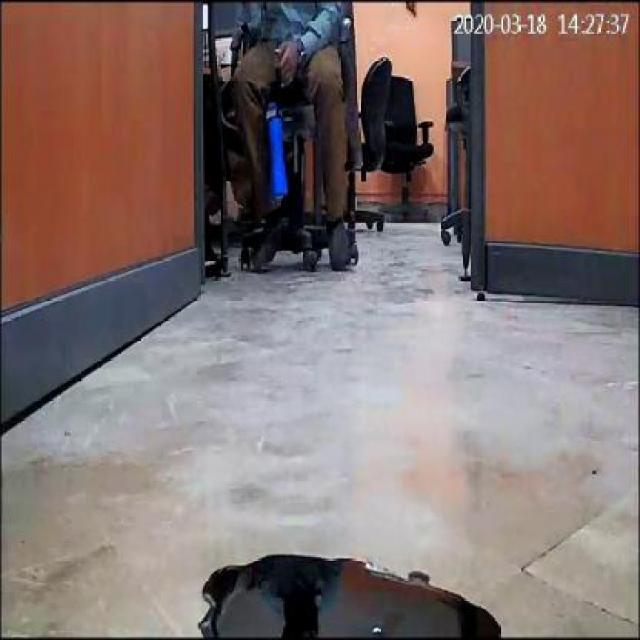spill: (200, 548, 500, 636)
